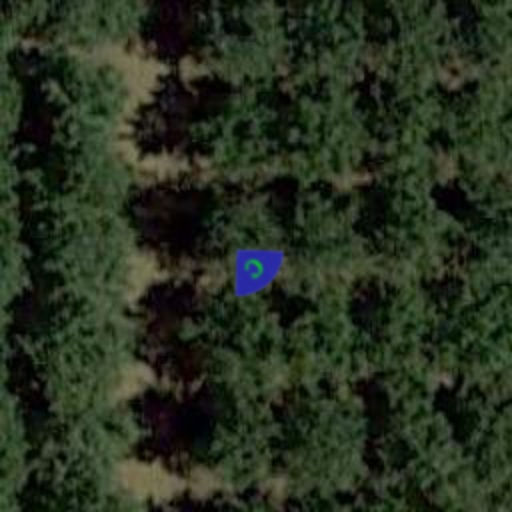quarter_circle: (210, 224, 302, 316)
